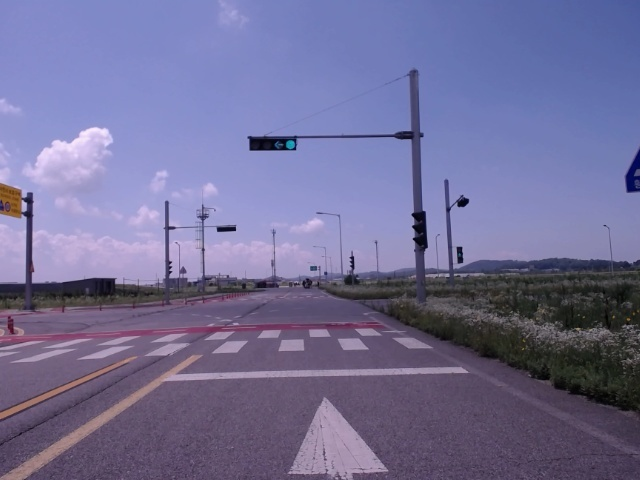all_green_4: (247, 136, 295, 152)
